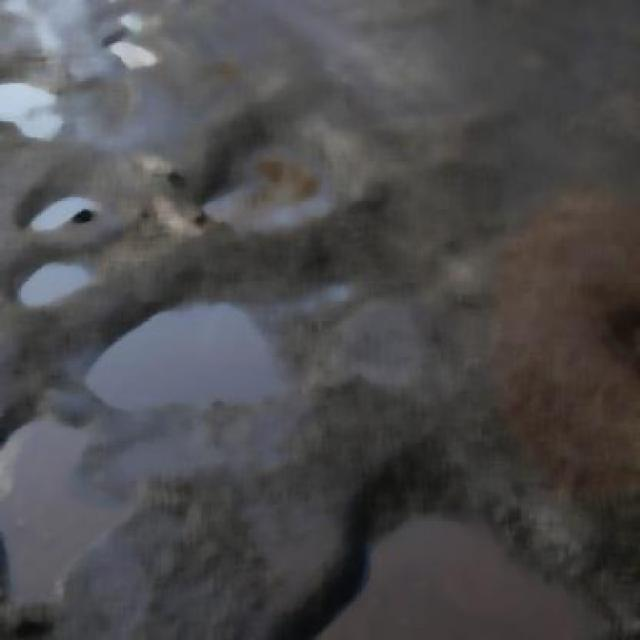Pothole: (256, 471, 595, 638), (0, 398, 122, 610), (89, 292, 276, 430), (194, 157, 348, 238), (0, 60, 71, 148), (113, 19, 153, 86)
